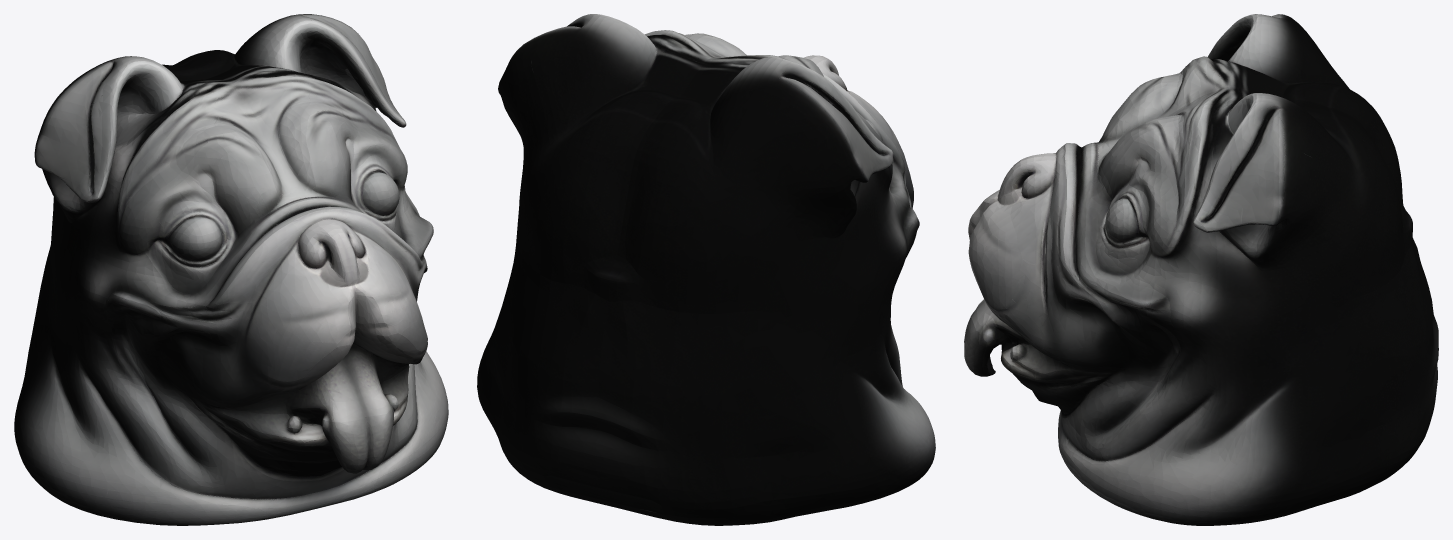
The picture shows the model from 3 angles, left to right: view 1: azimuth 30°, elevation 25°; view 2: azimuth 150°, elevation 25°; view 3: azimuth 270°, elevation 25°; orthographic projection. The views are drawn at different scales.
Visible parts, largest first — view 1: world; view 2: world; view 3: world.
Boxes of the visible parts, box(x1,y1,x2,y2) form: world: box(14, 14, 448, 525); world: box(477, 14, 935, 525); world: box(964, 14, 1438, 525).
Size of the model in its own units: 0.933 by 0.9258 by 0.9976.
1 material, 1 textured.
